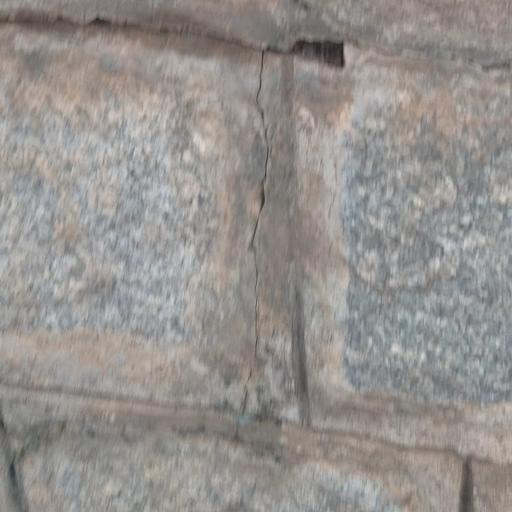minor_crack: (229, 29, 280, 427)
